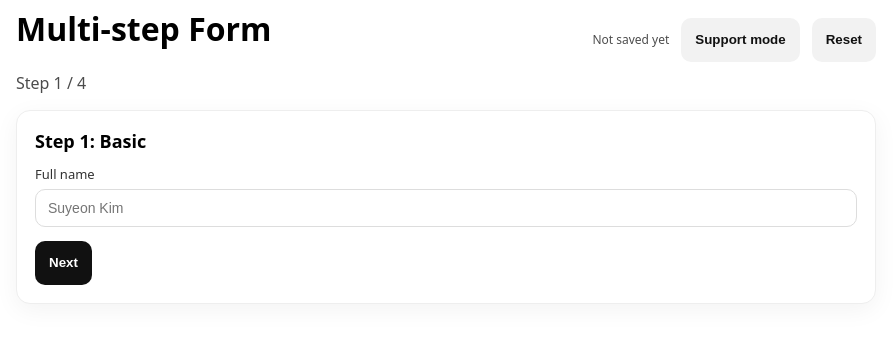
Test: wizard flow › validates Step 1 full name
The width and height of the screenshot is (893, 344).
Click the button "Next" at (63, 263), box x1=35 y1=241 x2=92 y2=285
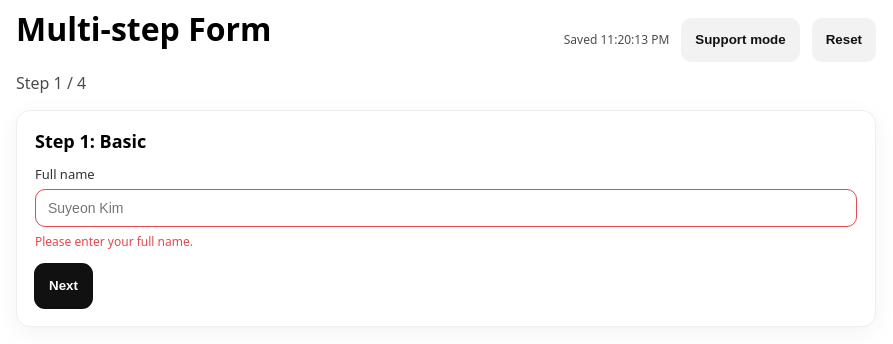
Expected: the text "Please enter your full name." is shown, x1=35 y1=233 x2=193 y2=250
